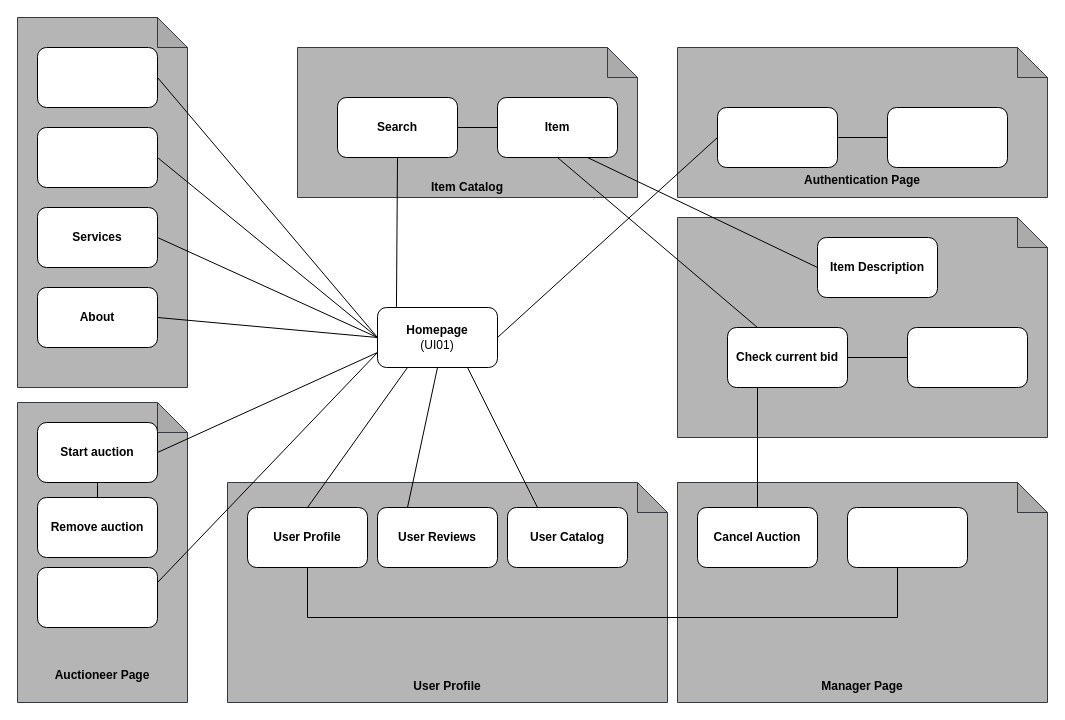
Some shapes in this 1065 by 720 pixel diagram are drawn without their labels. The shapes that lost their labels are listed below. From the top down, each one's box as (x1, y1, x2, y2) in pixels, then its label:
(36, 46, 158, 108): Contact Us
(36, 126, 158, 188): FAQ
(716, 106, 838, 168): Sign in
(886, 106, 1008, 168): Sign up
(16, 16, 188, 388): Static Pages
(676, 216, 1048, 438): Auction Page
(906, 326, 1028, 388): Make a new bid
(846, 506, 968, 568): Ban User
(36, 566, 158, 628): Manage winning bid
